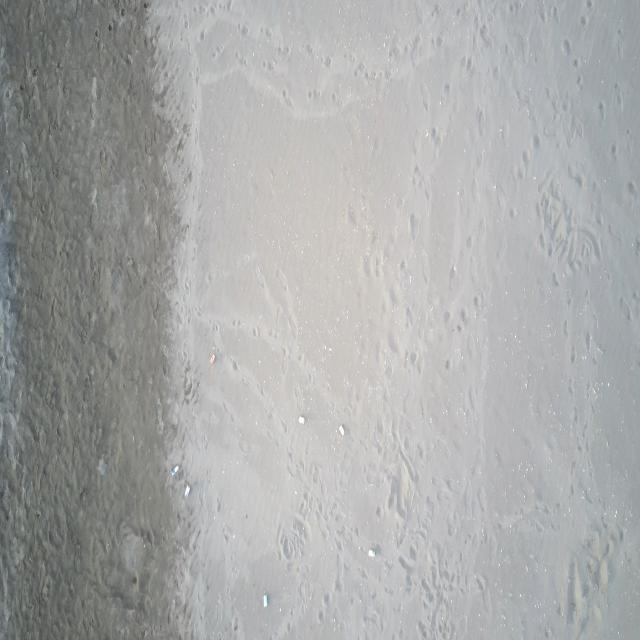Garbage: (98, 457, 107, 475), (169, 464, 179, 475), (208, 352, 215, 364), (183, 484, 190, 495), (367, 547, 375, 556), (337, 424, 343, 435), (263, 592, 267, 607), (298, 415, 303, 424)
